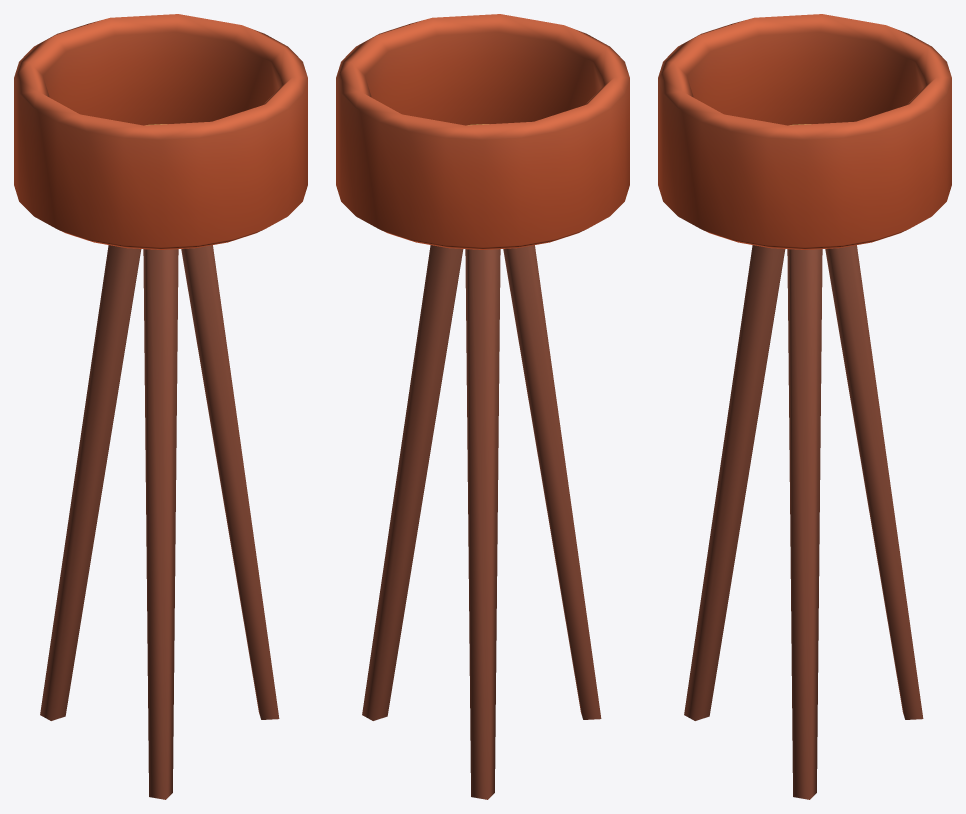
File: Furniture_Lamp_02.fbx
The picture shows the model from 3 angles, left to right: view 1: azimuth 30°, elevation 25°; view 2: azimuth 150°, elevation 25°; view 3: azimuth 270°, elevation 25°; orthographic projection.
Parts seen in each view (by area): view 1: Furniture_Lamp_02; view 2: Furniture_Lamp_02; view 3: Furniture_Lamp_02.
Part boxes in pixels (bbox=[...]): Furniture_Lamp_02: bbox=[14, 14, 307, 799]; Furniture_Lamp_02: bbox=[336, 14, 629, 799]; Furniture_Lamp_02: bbox=[658, 14, 951, 799].
Size of the model in its own units: 99.41 by 251 by 99.41.
